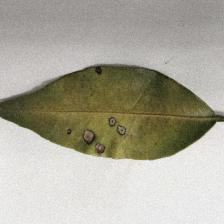canker: (52, 66, 136, 157)
